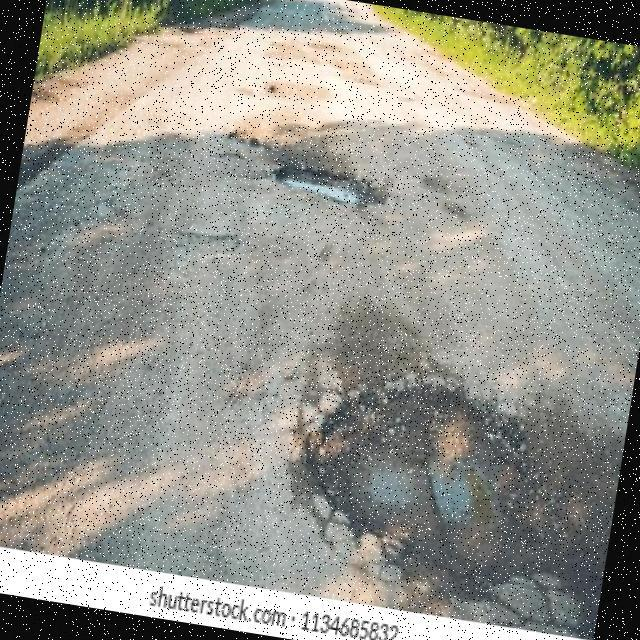Pothole: (317, 384, 526, 603), (272, 166, 375, 209)
